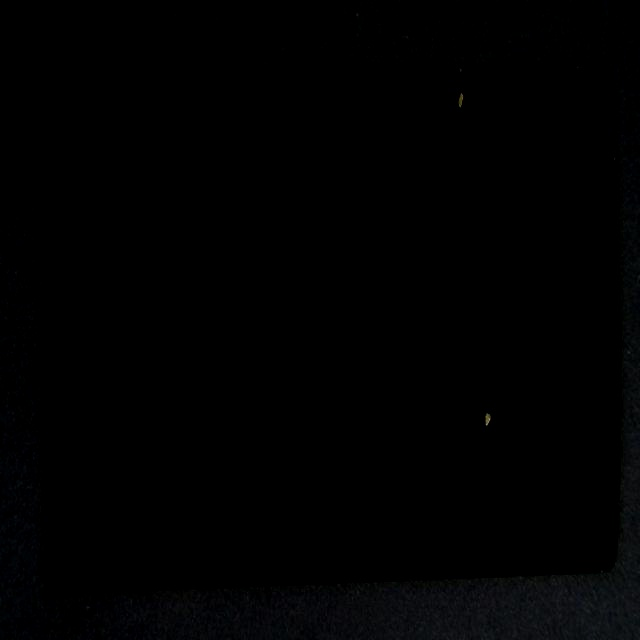stain: (274, 208, 640, 601), (252, 59, 640, 134)
